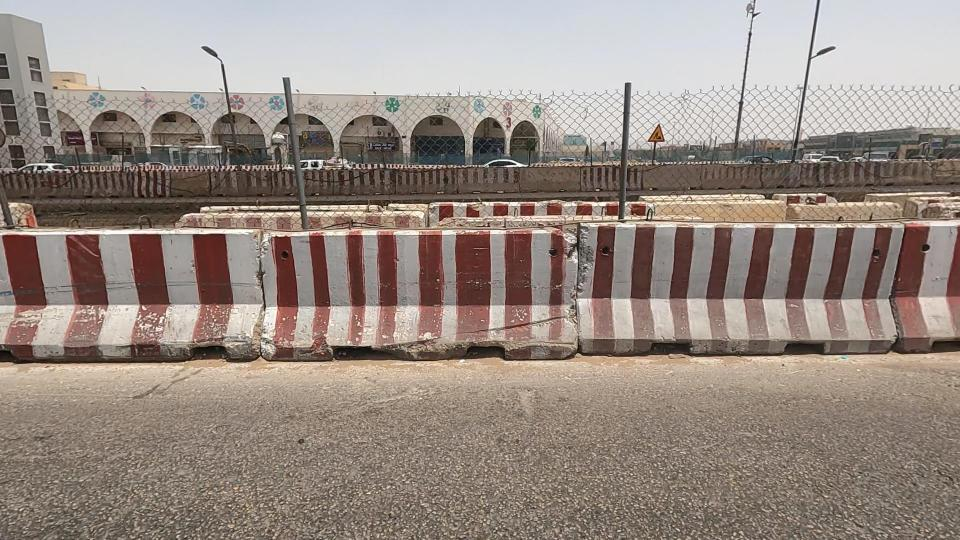CONSTRUCTION_ROAD: (220, 146, 960, 420), (0, 136, 498, 424)
